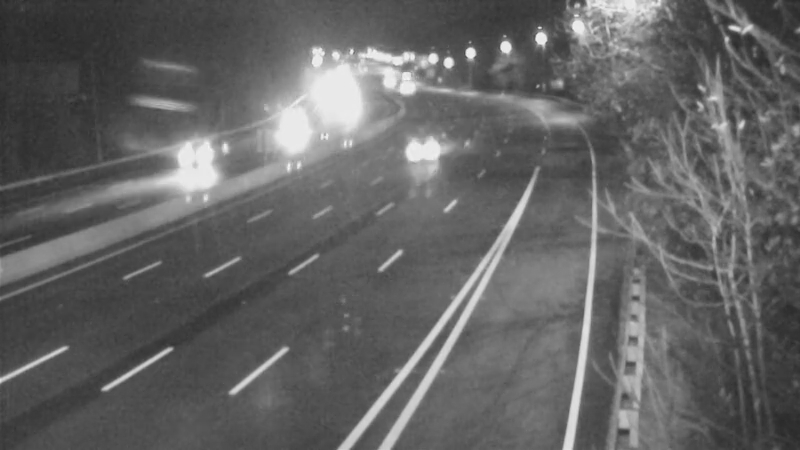vehicle: (388, 111, 468, 191), (161, 114, 241, 194), (377, 65, 427, 115), (263, 104, 313, 154)
